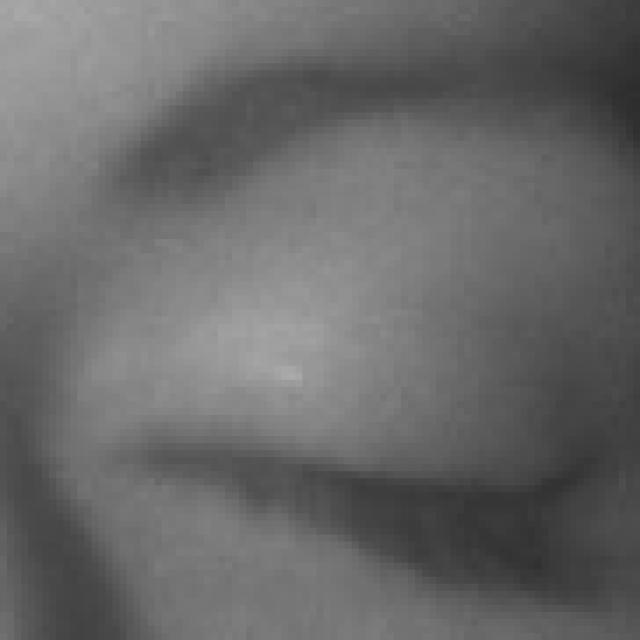Eyeclosed: (140, 263, 607, 640)
